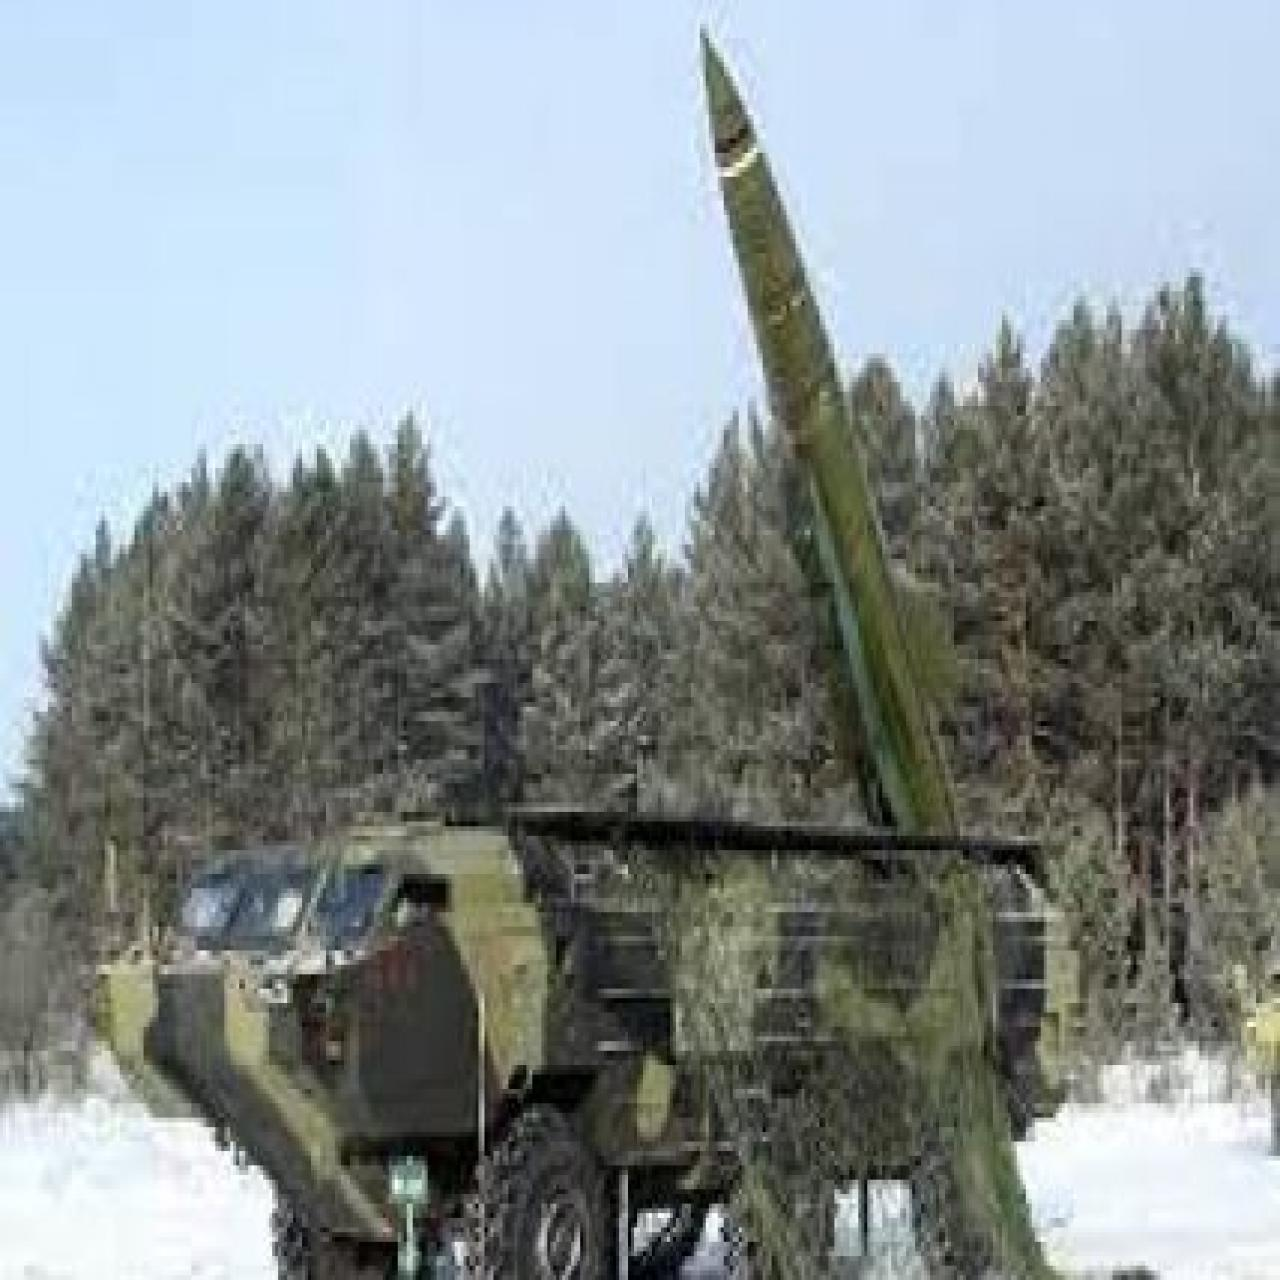MIL_Veh: (104, 19, 1049, 1280)
